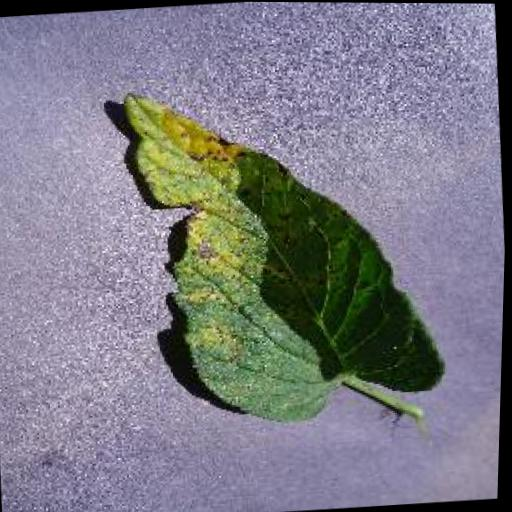Septoria: (115, 70, 460, 431)
